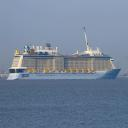cruises: (7, 27, 123, 85)
